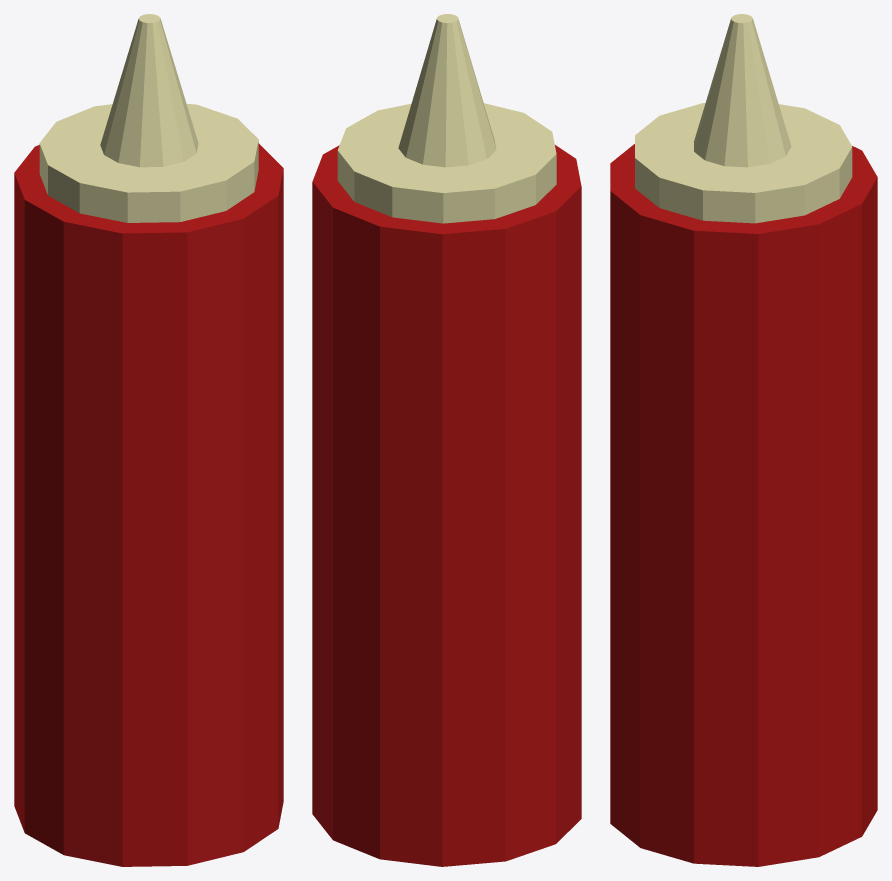
File: ketchup.fbx
The picture shows the model from 3 angles, left to right: view 1: azimuth 30°, elevation 25°; view 2: azimuth 150°, elevation 25°; view 3: azimuth 270°, elevation 25°; orthographic projection.
Visible parts, largest first — view 1: Cylinder; view 2: Cylinder; view 3: Cylinder.
Part boxes in pixels (box(x1,y1,x2,y2)): Cylinder: box(14, 14, 283, 866); Cylinder: box(312, 14, 581, 866); Cylinder: box(610, 14, 877, 866).
Size of the model in its own units: 199 by 644 by 197.
